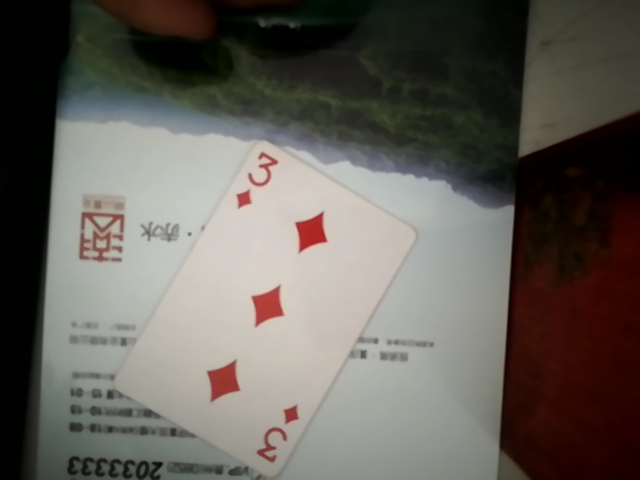fk 3: (122, 140, 407, 464)
